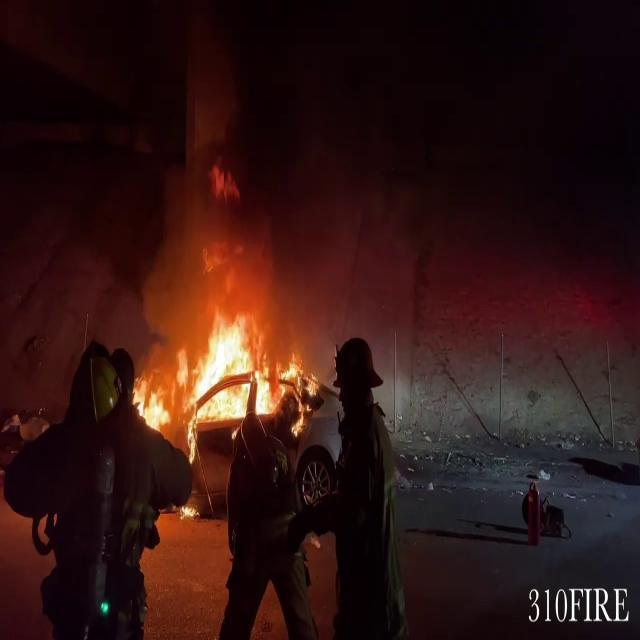Fire: (138, 303, 314, 442)
